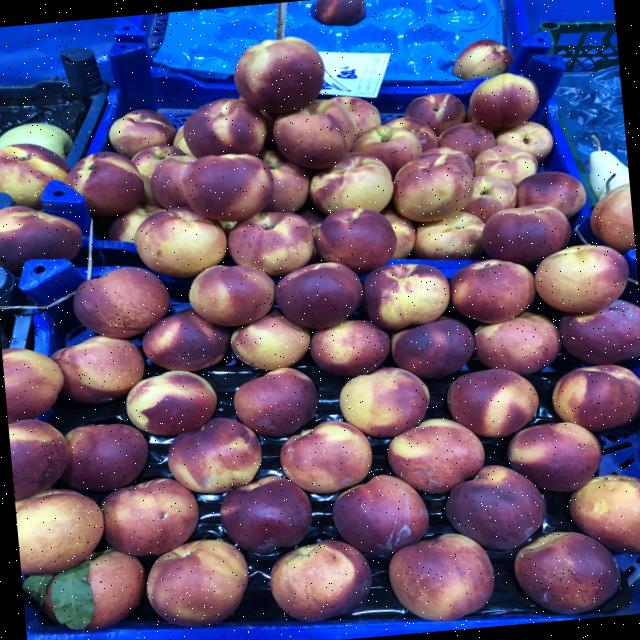peach: (388, 533, 494, 621), (146, 539, 248, 626), (514, 531, 620, 614), (445, 465, 545, 549), (270, 539, 371, 621), (15, 489, 103, 574), (387, 418, 484, 492), (168, 417, 261, 493), (73, 267, 169, 338), (280, 420, 371, 493), (134, 207, 226, 277), (181, 153, 274, 221), (339, 367, 429, 437), (534, 245, 628, 312), (552, 364, 640, 431), (125, 371, 217, 435), (234, 367, 318, 436), (362, 264, 449, 330), (275, 262, 362, 328), (227, 212, 314, 275), (182, 98, 271, 158), (189, 265, 274, 326), (230, 311, 310, 369), (309, 320, 389, 377)
